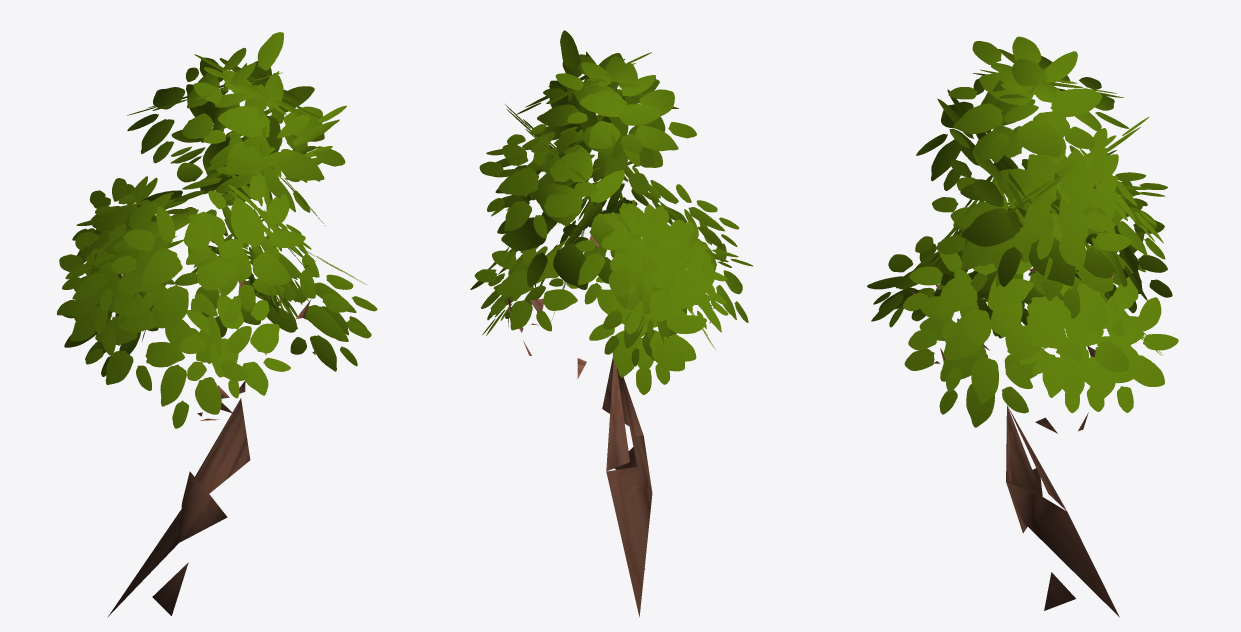
Rendered from beringin-1-lod.glb.
3 views of the same model, side by side, from view 1: azimuth 30°, elevation 25°; view 2: azimuth 150°, elevation 25°; view 3: azimuth 270°, elevation 25° (orthographic). The views are drawn at different scales.
Parts seen in each view (by area): view 1: CommonTree_2; view 2: CommonTree_2; view 3: CommonTree_2.
Boxes of the visible parts, x1=… form: CommonTree_2: x1=57, y1=32, x2=377, y2=617; CommonTree_2: x1=470, y1=30, x2=753, y2=617; CommonTree_2: x1=867, y1=36, x2=1178, y2=617.
Size of the model in its own units: 9.38 by 17.04 by 9.91.
Materials: 2 (2 with a texture image).
